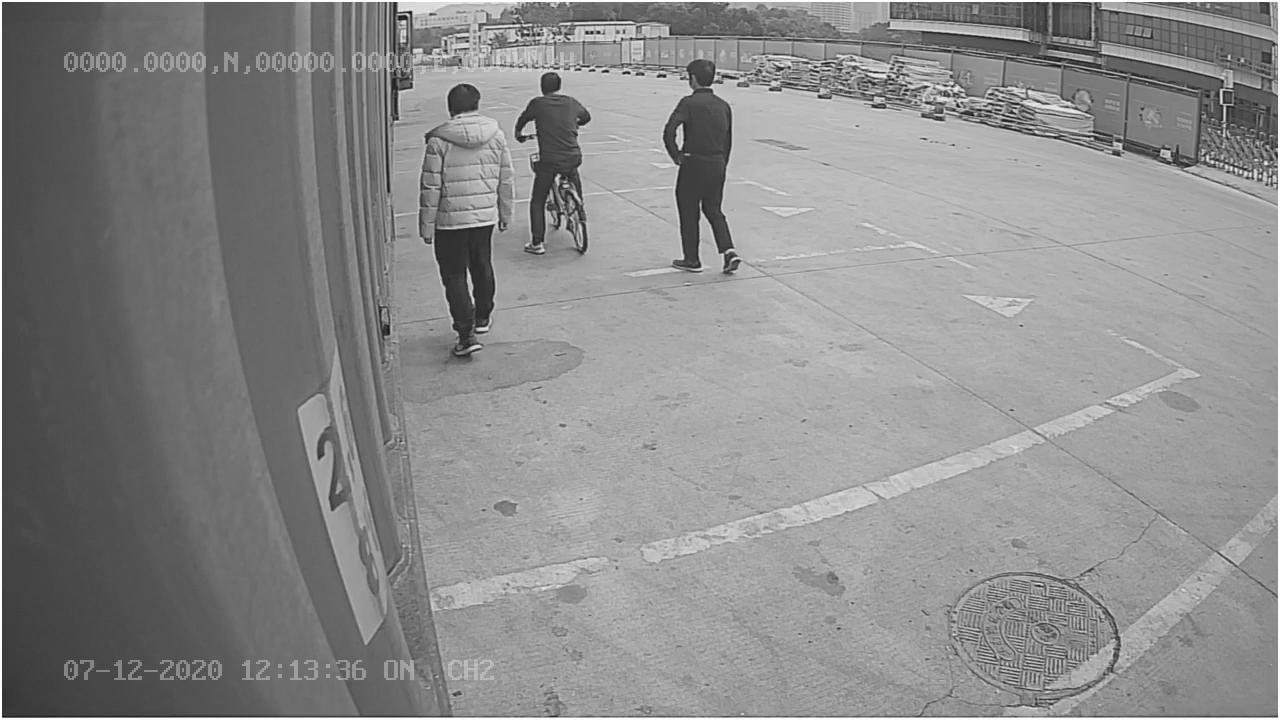person: (420, 81, 514, 360), (656, 53, 742, 281)
